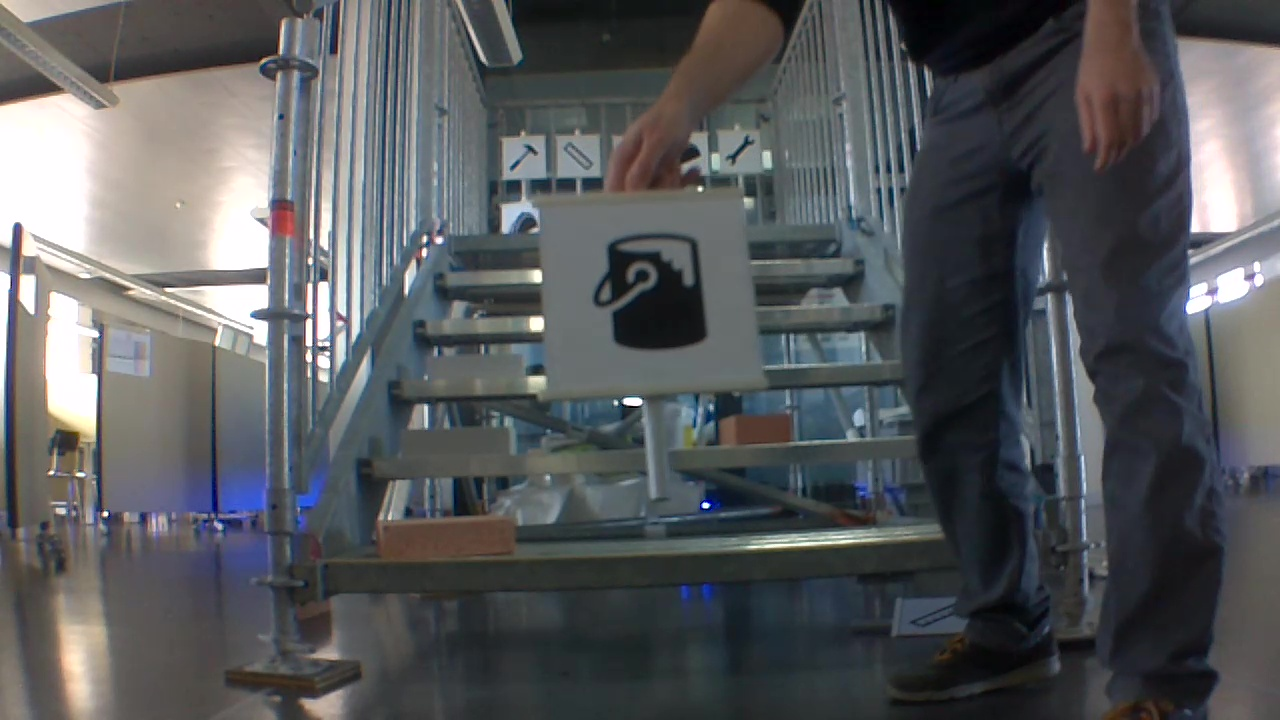brick: (379, 514, 511, 558), (401, 425, 514, 456), (428, 354, 524, 379), (719, 414, 790, 444)
bucket: (585, 225, 715, 358)
hammer: (506, 139, 540, 174)
ruler: (558, 139, 595, 173)
taco: (504, 206, 538, 235)
wrench: (721, 132, 756, 167)
